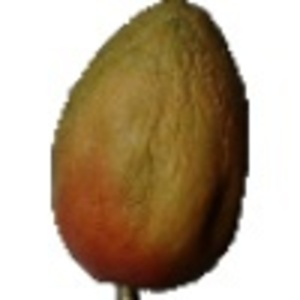mamão: (36, 1, 262, 290)
